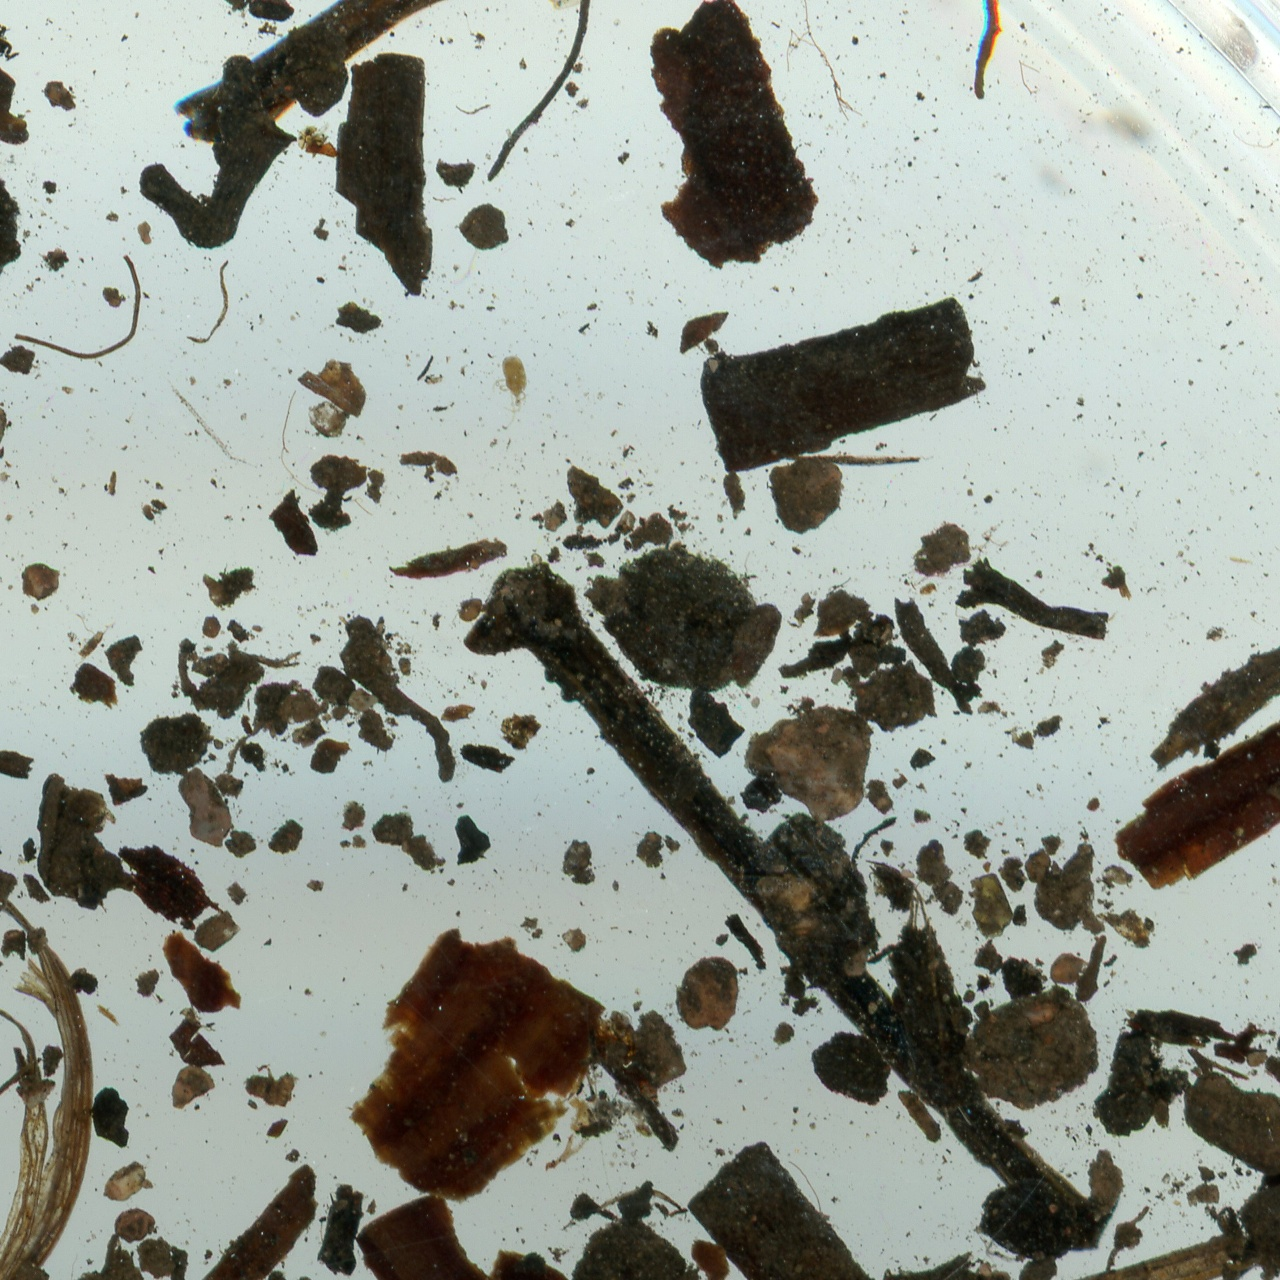arthropod: (491, 349, 531, 429)
